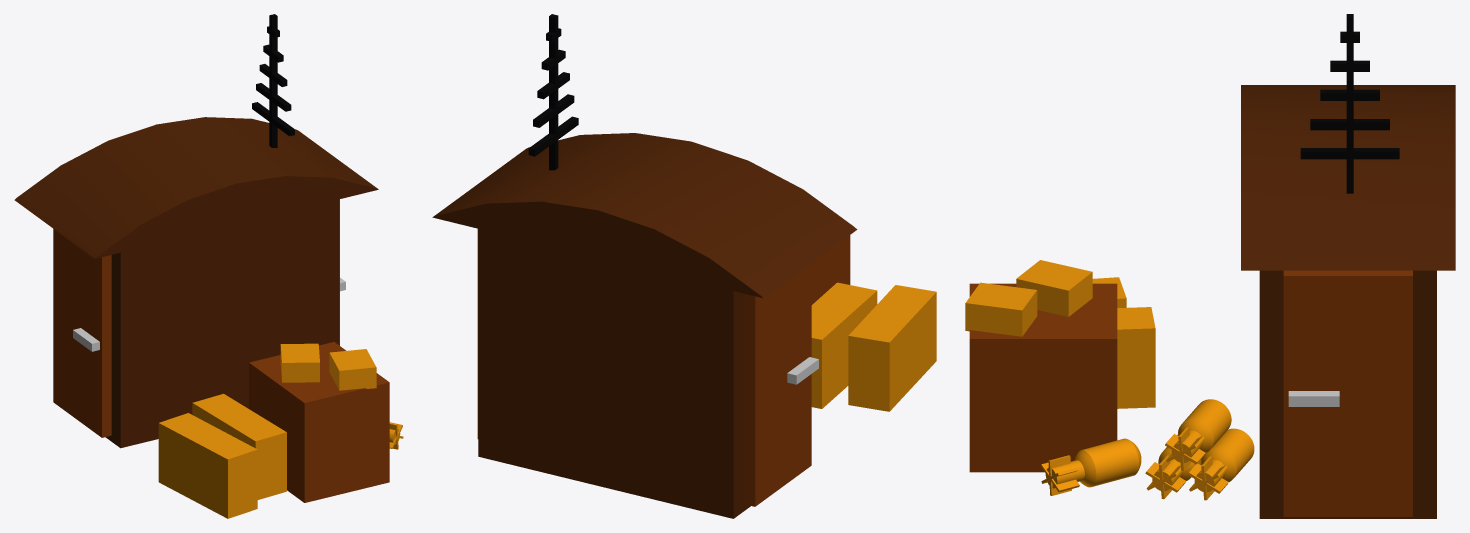
The model's file is Ammo Provider Model export.fbx.
3 renders of one model, left to right at view 1: azimuth 30°, elevation 25°; view 2: azimuth 150°, elevation 25°; view 3: azimuth 270°, elevation 25°, orthographic. The views are drawn at different scales.
Visible parts, largest first — view 1: Cube_1_5, Cylinder_5, Cube_4, Cube_1_6, Cube, Cube_2_4, Cube_5, Cube_6, Cube_3_5, Cube_1_7, Cube_4_0; view 2: Cube_1_5, Cylinder_5, Cube_1_6, Cube, Cube_2_4, Cube_4, Cube_3_5, Cube_4_0; view 3: Cylinder_5, Cube_1_6, Cube_4, Cube_1_5, Cube_2_4, Cube_5, Cube_6, mortar_shell_3, mortar_shell_2, mortar_shell, Cube_3_5, Cube_4_0 (+4 smaller).
Boxes of the visible parts, x1,y1,x2,y2 form: Cube_1_5: (105,199,339,448); Cylinder_5: (14,117,378,258); Cube_4: (249,342,389,502); Cube_1_6: (53,199,339,437); Cube: (158,413,257,518); Cube_2_4: (192,393,286,499); Cube_5: (329,349,376,390); Cube_6: (280,343,319,382); Cube_3_5: (269,14,277,148); Cube_1_7: (73,277,345,351); Cube_4_0: (252,102,294,136); Cube_1_5: (478,229,750,518); Cylinder_5: (432,133,857,298); Cube_1_6: (477,229,811,506); Cube: (848,285,936,411); Cube_2_4: (811,282,877,408); Cube_4: (811,235,850,304); Cube_3_5: (549,14,558,170); Cube_4_0: (528,116,578,156); Cylinder_5: (1241,85,1455,270); Cube_1_6: (1283,270,1412,516); Cube_4: (969,283,1117,472); Cube_1_5: (1259,270,1436,518); Cube_2_4: (1117,307,1155,408); Cube_5: (965,282,1037,336); Cube_6: (1016,260,1092,316); mortar_shell_3: (1074,438,1141,487); mortar_shell_2: (1178,399,1231,452); mortar_shell: (1201,428,1254,481); Cube_3_5: (1346,14,1353,193); Cube_4_0: (1300,148,1399,159).
Size of the model in its own units: 40.83 by 49.7 by 45.75.
